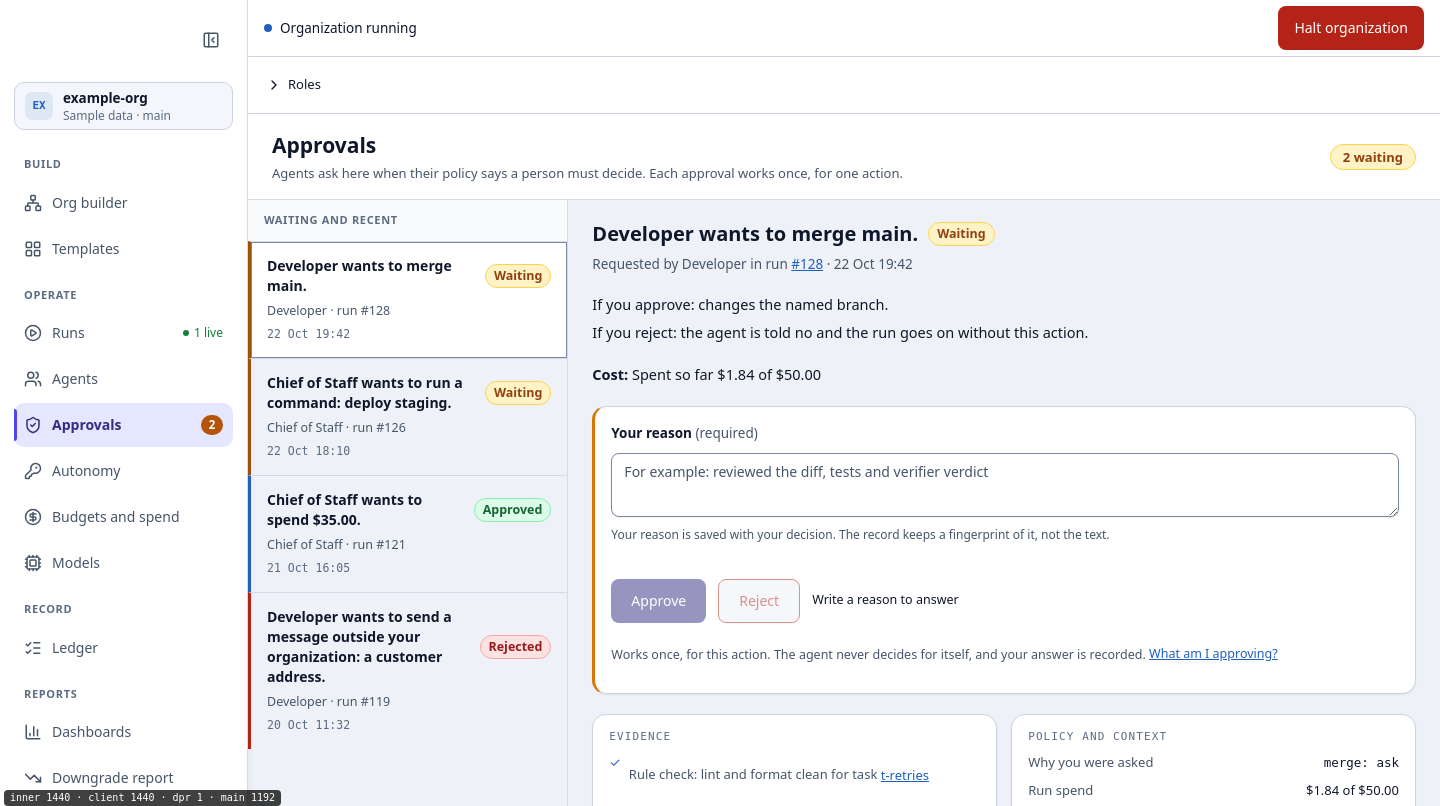
Test case: Approvals decisions › tells you when your decision was refused because someone decided first
Step 1. Type "late" into the text box labelled "Your reason (required)" → {"x": 1005, "y": 485}, box [611,453,1399,517]
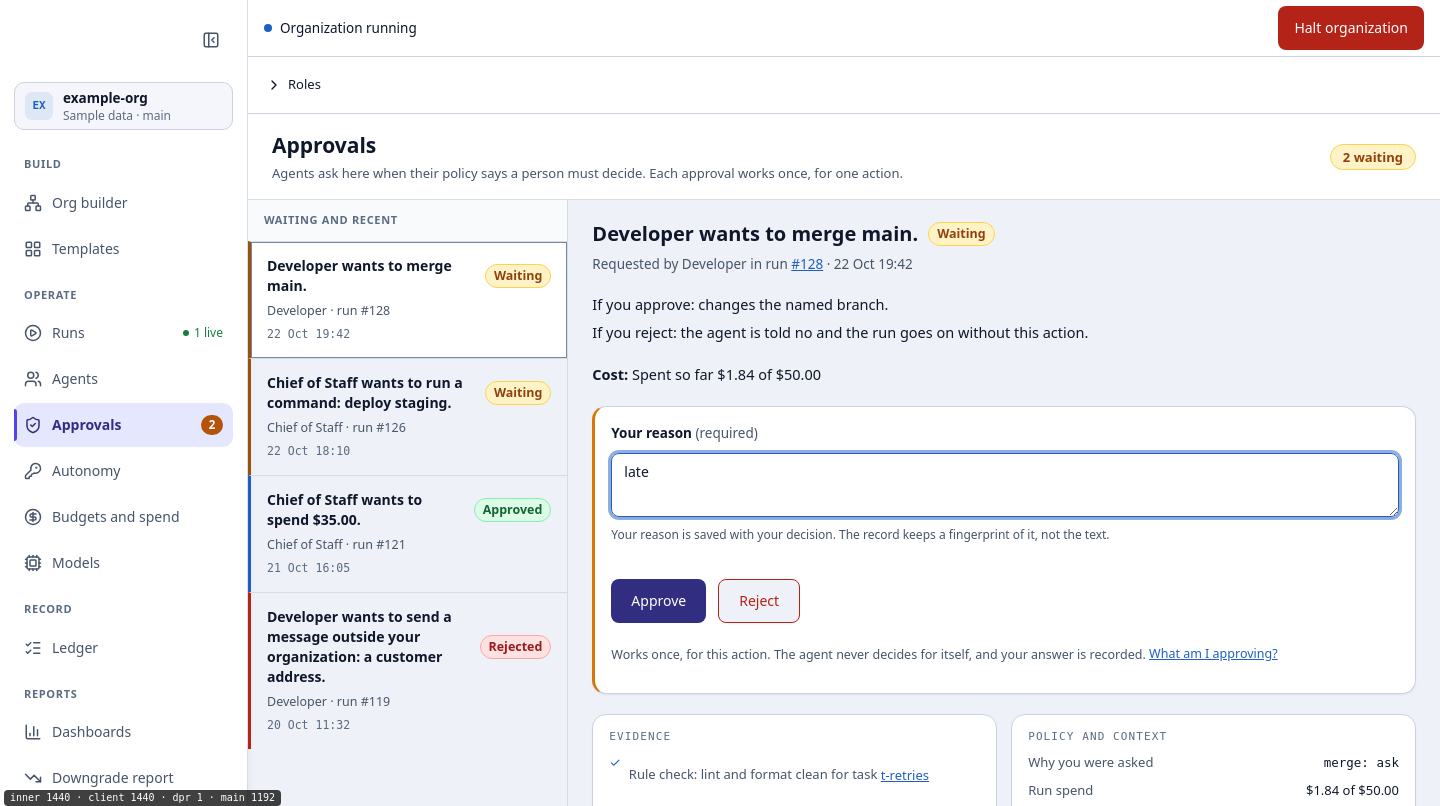
Step 2. Click the button "Reject" → {"x": 759, "y": 601}, box [718,579,800,623]
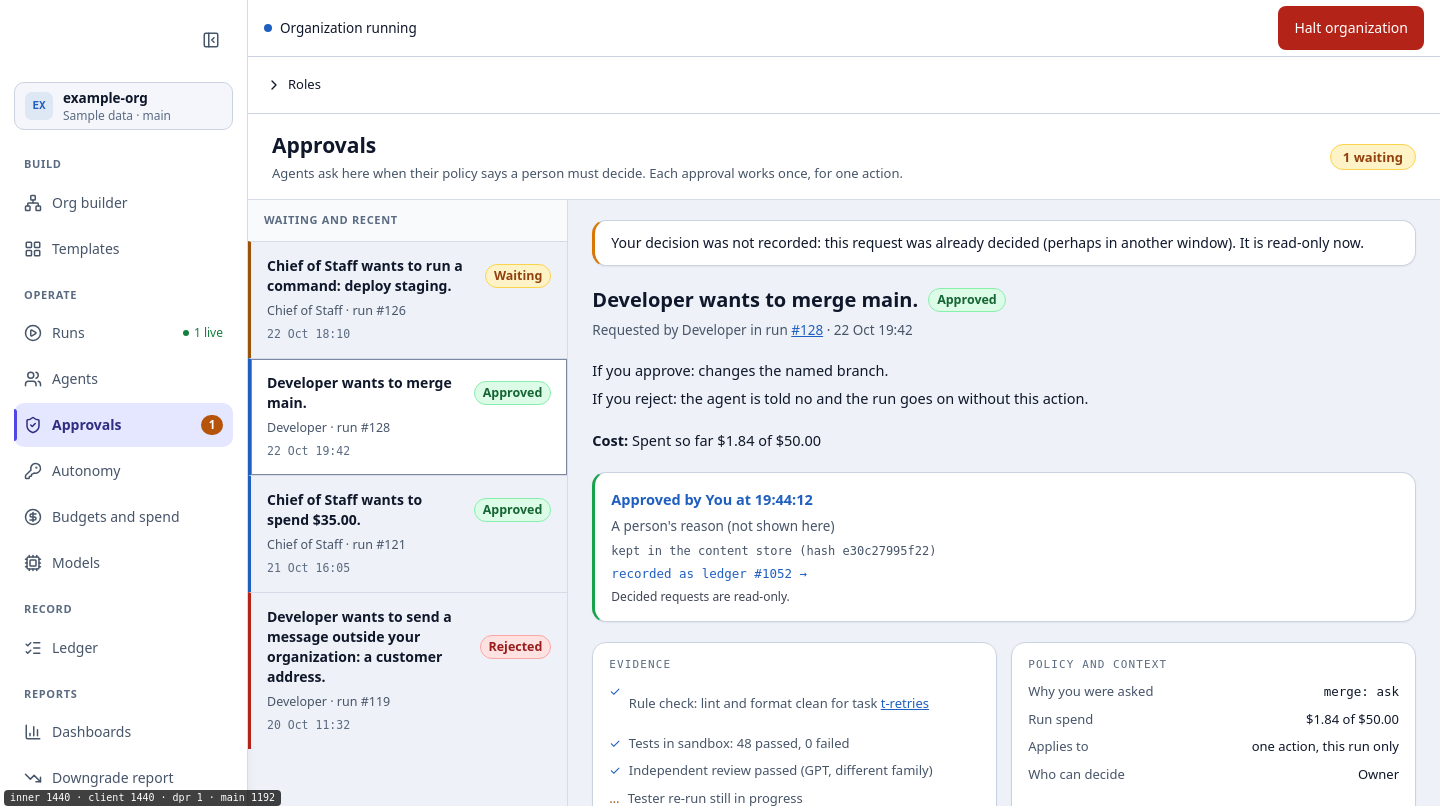
Result: the text "Your decision was not recorded: this request was already decided" is shown at [611,233,1364,252]
